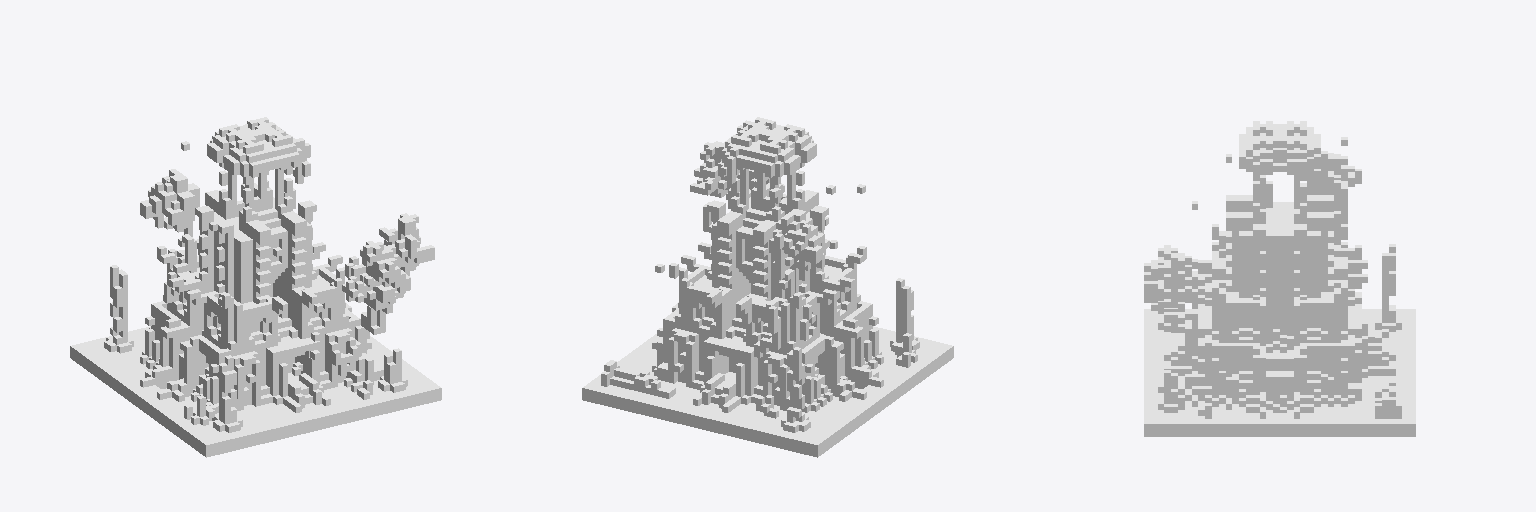
Rendered from AncientTemple.obj.
3 views of the same model, side by side, from view 1: azimuth 30°, elevation 25°; view 2: azimuth 150°, elevation 25°; view 3: azimuth 270°, elevation 25° (orthographic).
Parts seen in each view (by area): view 1: AncientTemple; view 2: AncientTemple; view 3: AncientTemple.
Boxes of the visible parts, x1=… form: AncientTemple: x1=70, y1=117, x2=441, y2=457; AncientTemple: x1=582, y1=117, x2=953, y2=457; AncientTemple: x1=1144, y1=121, x2=1415, y2=436.
Size of the model in its own units: 4 by 4 by 4.